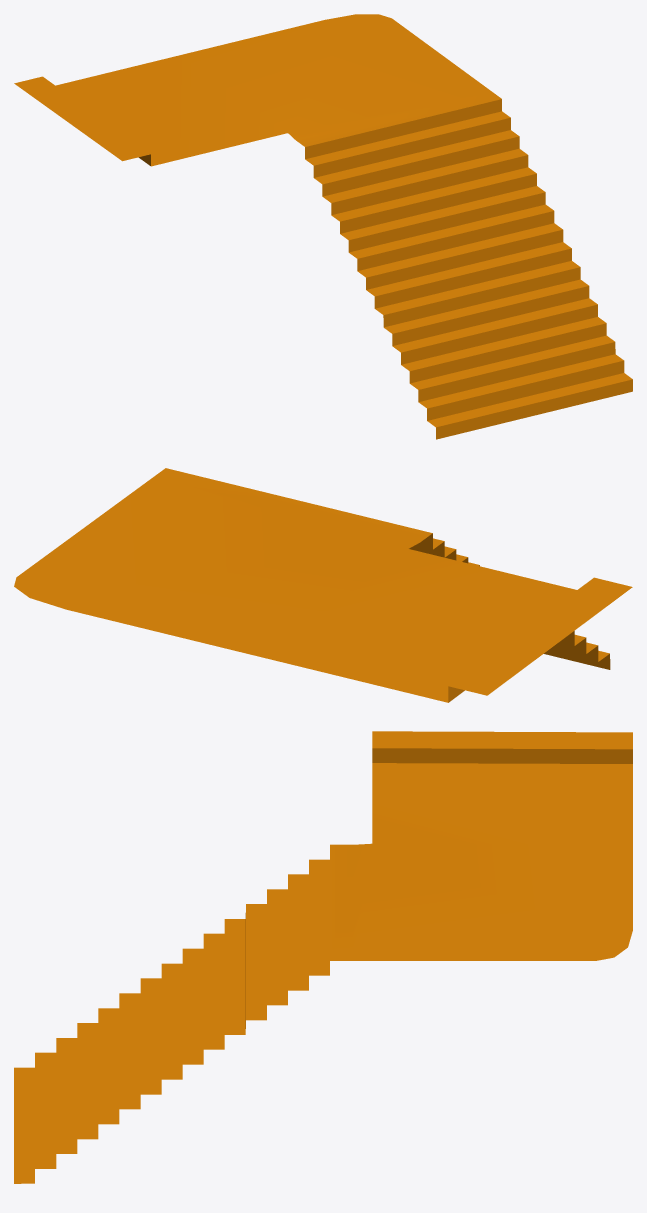
File: Stairs_02.FBX
3 views of the same model, one above another, from view 1: azimuth 30°, elevation 25°; view 2: azimuth 150°, elevation 25°; view 3: azimuth 270°, elevation 25° (orthographic). The views are drawn at different scales.
Visible parts, largest first — view 1: stone_stairs_032; view 2: stone_stairs_032; view 3: stone_stairs_032.
Part boxes in pixels (x1,y1,x2,y2): stone_stairs_032: (14, 14, 632, 439); stone_stairs_032: (14, 468, 632, 702); stone_stairs_032: (14, 731, 632, 1183).
Size of the model in its own units: 4.89 by 2.71 by 5.98.
